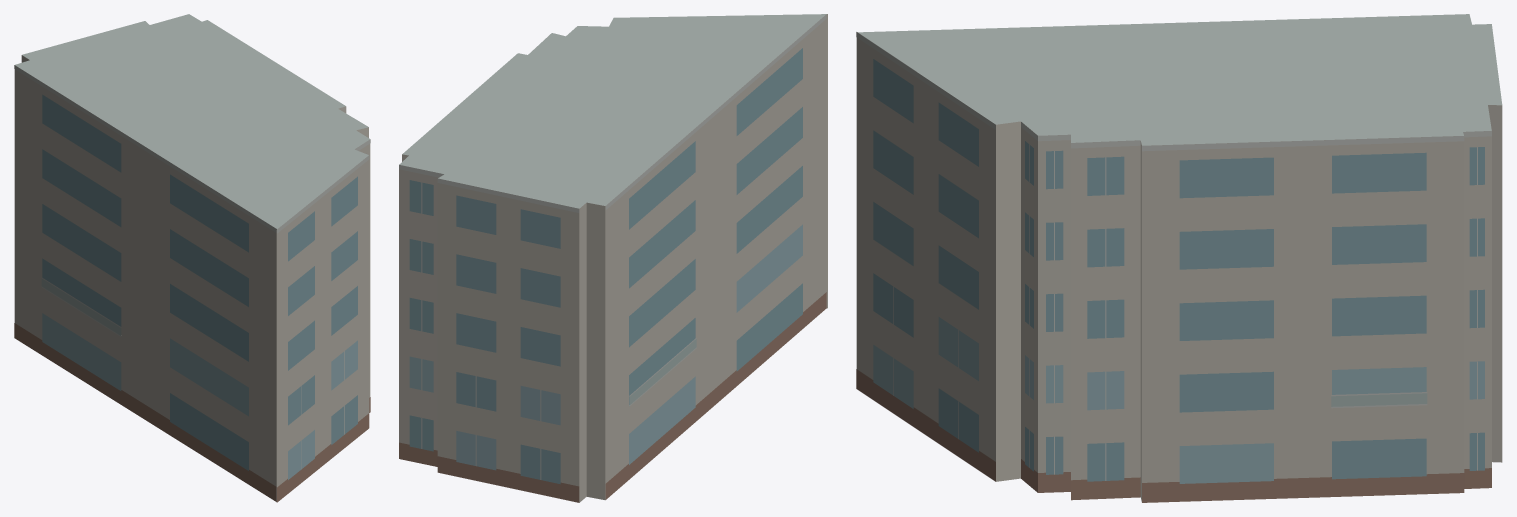
The model's file is survey-upis-32938544.glb.
The picture shows the model from 3 angles, left to right: view 1: azimuth 30°, elevation 25°; view 2: azimuth 150°, elevation 25°; view 3: azimuth 270°, elevation 25°; orthographic projection. The views are drawn at different scales.
Visible parts, largest first — view 1: survey-upis-32938544.tmp; view 2: survey-upis-32938544.tmp; view 3: survey-upis-32938544.tmp.
Part boxes in pixels (x1,y1,x2,y2): survey-upis-32938544.tmp: (14, 14, 370, 502); survey-upis-32938544.tmp: (399, 14, 827, 502); survey-upis-32938544.tmp: (856, 14, 1502, 502).
Bounding box in the file's own units: 12.59 × 15.9 × 26.07.
